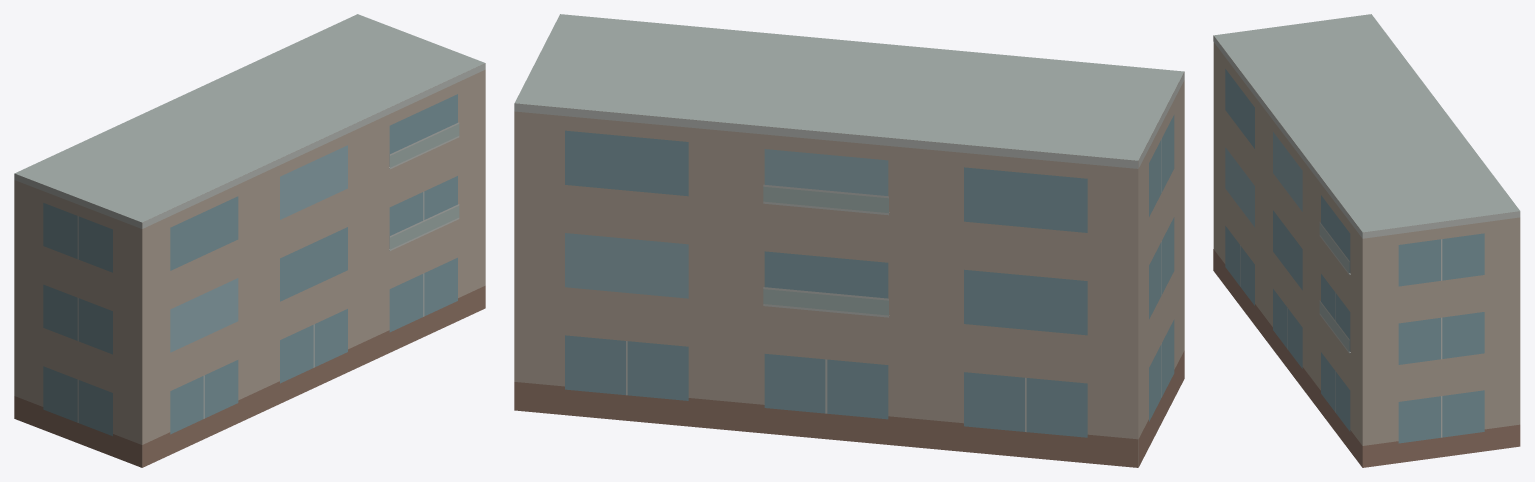
Rendered from residential-171c480d-b75a-4eb0-8837-496a7efa0f29.glb.
The picture shows the model from 3 angles, left to right: view 1: azimuth 30°, elevation 25°; view 2: azimuth 150°, elevation 25°; view 3: azimuth 270°, elevation 25°; orthographic projection. The views are drawn at different scales.
Parts seen in each view (by area): view 1: residential-171c480d-b75a-4eb0-8837-496a7efa0f29.tmp; view 2: residential-171c480d-b75a-4eb0-8837-496a7efa0f29.tmp; view 3: residential-171c480d-b75a-4eb0-8837-496a7efa0f29.tmp.
Boxes of the visible parts, x1,y1,x2,y2 form: residential-171c480d-b75a-4eb0-8837-496a7efa0f29.tmp: [14, 14, 485, 467]; residential-171c480d-b75a-4eb0-8837-496a7efa0f29.tmp: [514, 14, 1184, 467]; residential-171c480d-b75a-4eb0-8837-496a7efa0f29.tmp: [1213, 14, 1520, 467].
Size of the model in its own units: 18.22 by 9.15 by 10.82.
